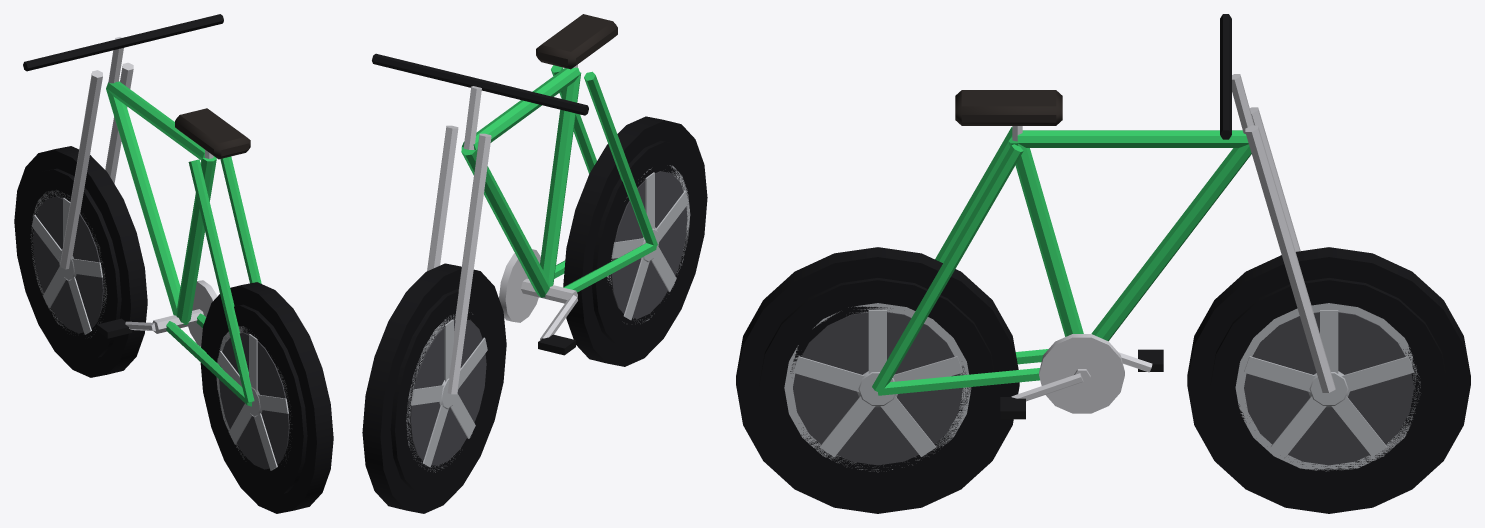
Rendered from bicycle.glb.
3 renders of one model, left to right at view 1: azimuth 30°, elevation 25°; view 2: azimuth 150°, elevation 25°; view 3: azimuth 270°, elevation 25°, orthographic. The views are drawn at different scales.
Visible parts, largest first — view 1: Body.014, Wheel_R.001, Wheel_F.001; view 2: Wheel_F.001, Body.014, Wheel_R.001; view 3: Wheel_F.001, Wheel_R.001, Body.014.
Part boxes in pixels (x1,y1,x2,y2): Body.014: (23,14,261,406); Wheel_R.001: (200,282,333,513); Wheel_F.001: (14,146,147,377); Wheel_F.001: (362,263,506,513); Body.014: (372,14,657,394); Wheel_R.001: (563,116,707,366); Wheel_F.001: (1187,247,1470,513); Wheel_R.001: (736,247,1019,513); Body.014: (872,14,1335,419).
Size of the model in its own units: 0.64 by 1.12 by 1.71.
